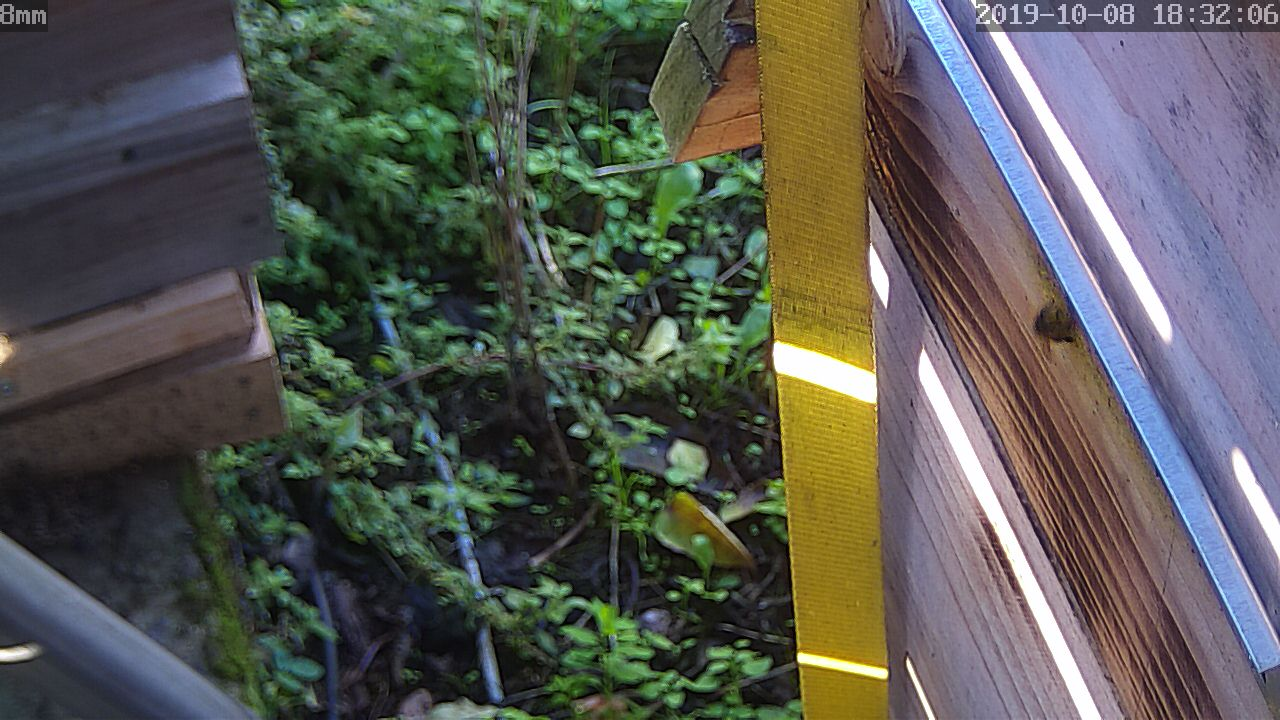bee: (1020, 292, 1078, 355)
